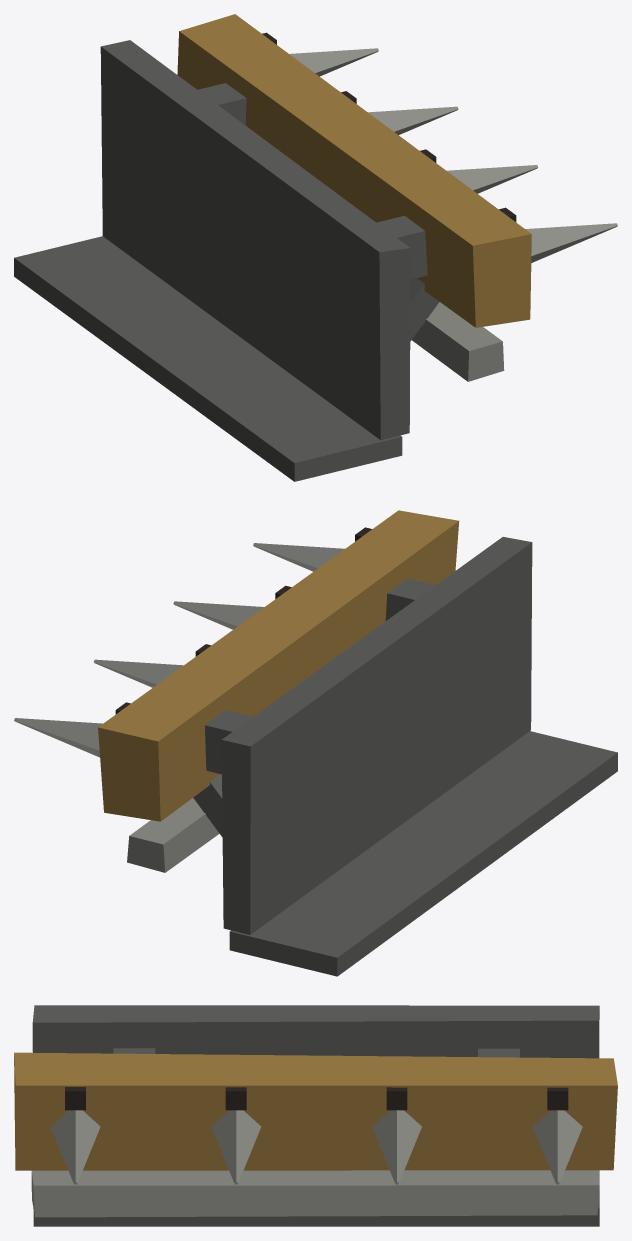
File: arm_ram.glb
The picture shows the model from 3 angles, top to bottom: view 1: azimuth 30°, elevation 25°; view 2: azimuth 150°, elevation 25°; view 3: azimuth 270°, elevation 25°; orthographic projection.
Parts seen in each view (by area): view 1: arm_ram; view 2: arm_ram; view 3: arm_ram.
Part boxes in pixels (x1,y1,x2,y2): arm_ram: (14, 14, 617, 481); arm_ram: (14, 510, 617, 976); arm_ram: (14, 1005, 617, 1226).
Bounding box in the file's own units: 0.955 × 0.5556 × 1.44.
